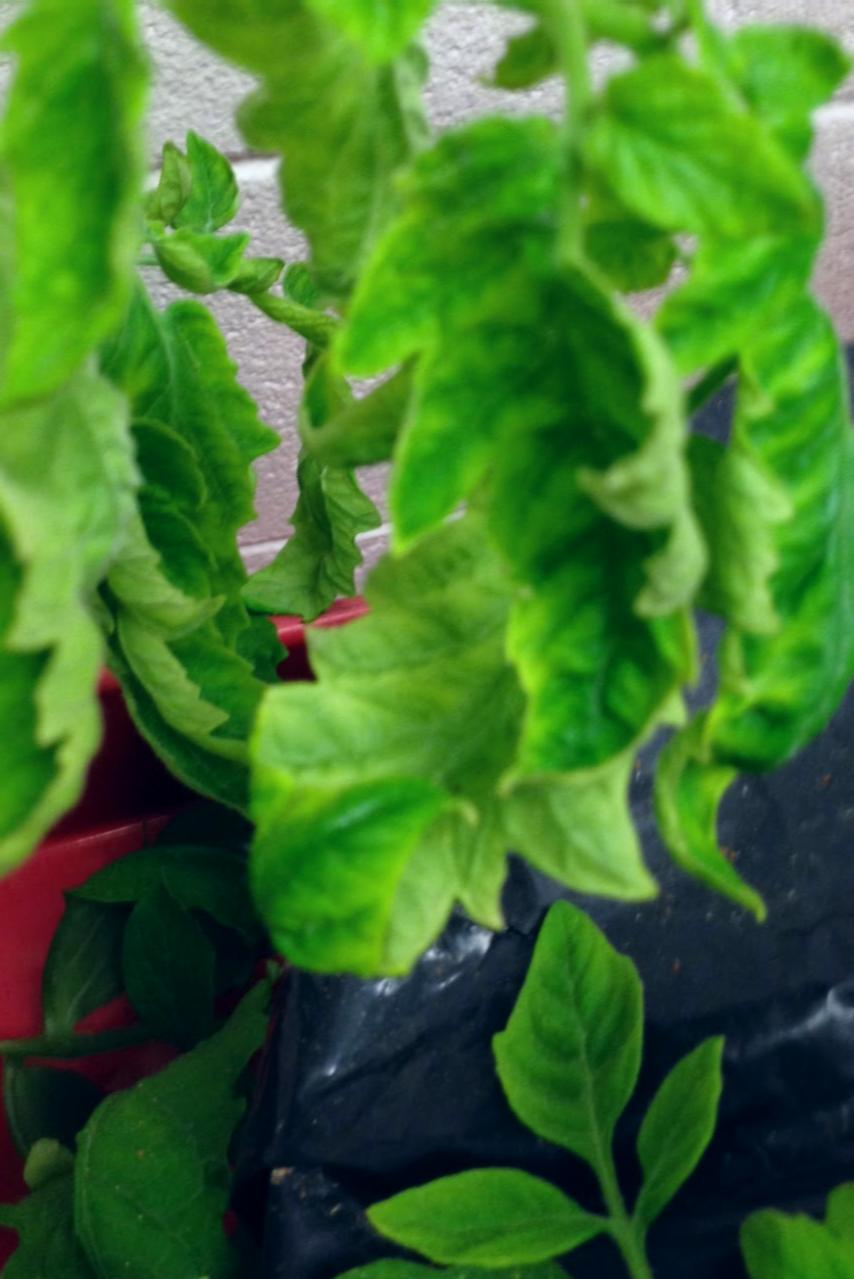Tomato leaf yellow virus: (375, 60, 718, 822), (703, 0, 854, 787), (0, 0, 186, 425), (499, 907, 657, 1175)
